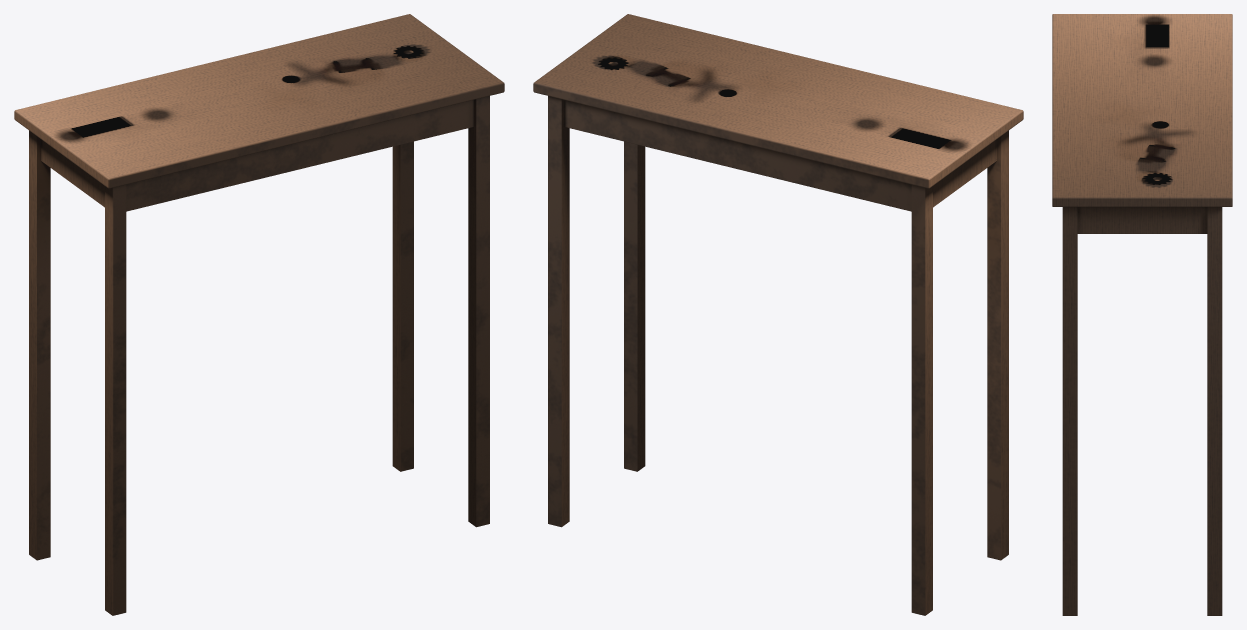
File: 812_alloy.glb
3 views of the same model, side by side, from view 1: azimuth 30°, elevation 25°; view 2: azimuth 150°, elevation 25°; view 3: azimuth 270°, elevation 25° (orthographic). The views are drawn at different scales.
Parts seen in each view (by area): view 1: Table; view 2: Table; view 3: Table.
Part boxes in pixels (x1,y1,x2,y2): Table: (14,14,504,615); Table: (533,14,1023,615); Table: (1052,14,1232,615).
Size of what is drawn, in the model's own units: 2.9 by 3.1 by 1.2.
Materials: 1 (1 with a texture image).
